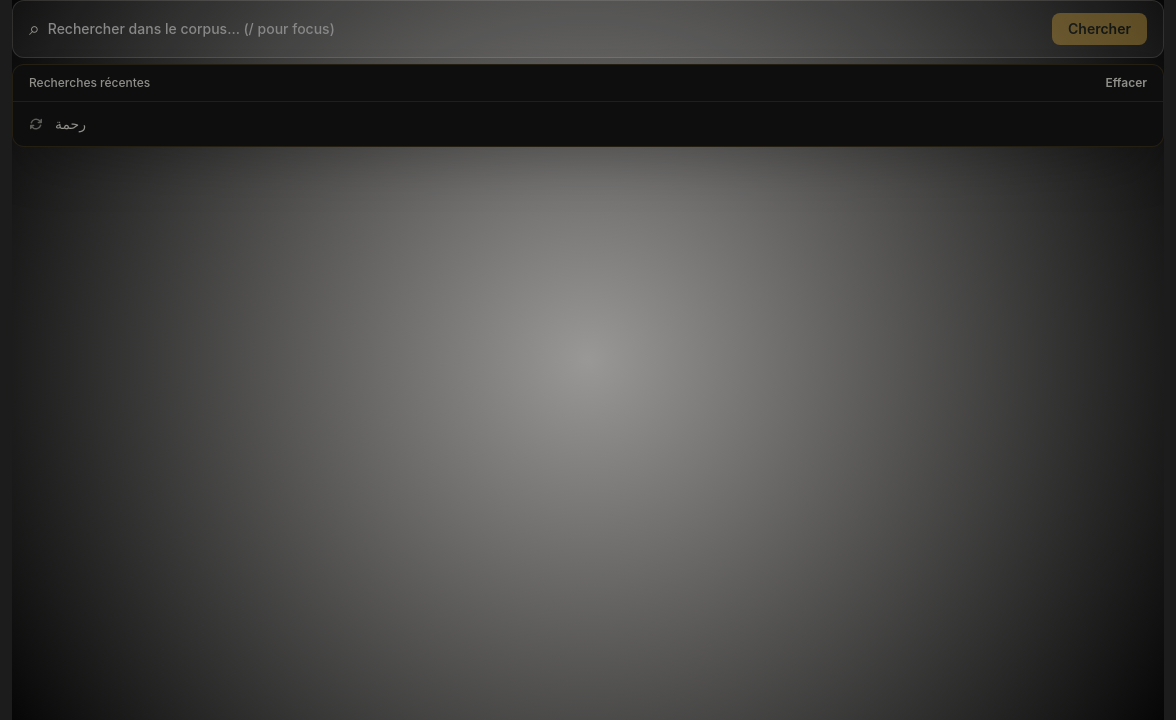
Test: SearchBar › Escape closes history dropdown and blurs input
Focus the field with placeholder "Rechercher dans le corpus… (/ pour focus)" at (546, 29), box top-left (48, 19), bottom-right (1044, 39)
Expected: the text "رحمة" is shown, top-left (55, 114), bottom-right (86, 134)
Press Escape
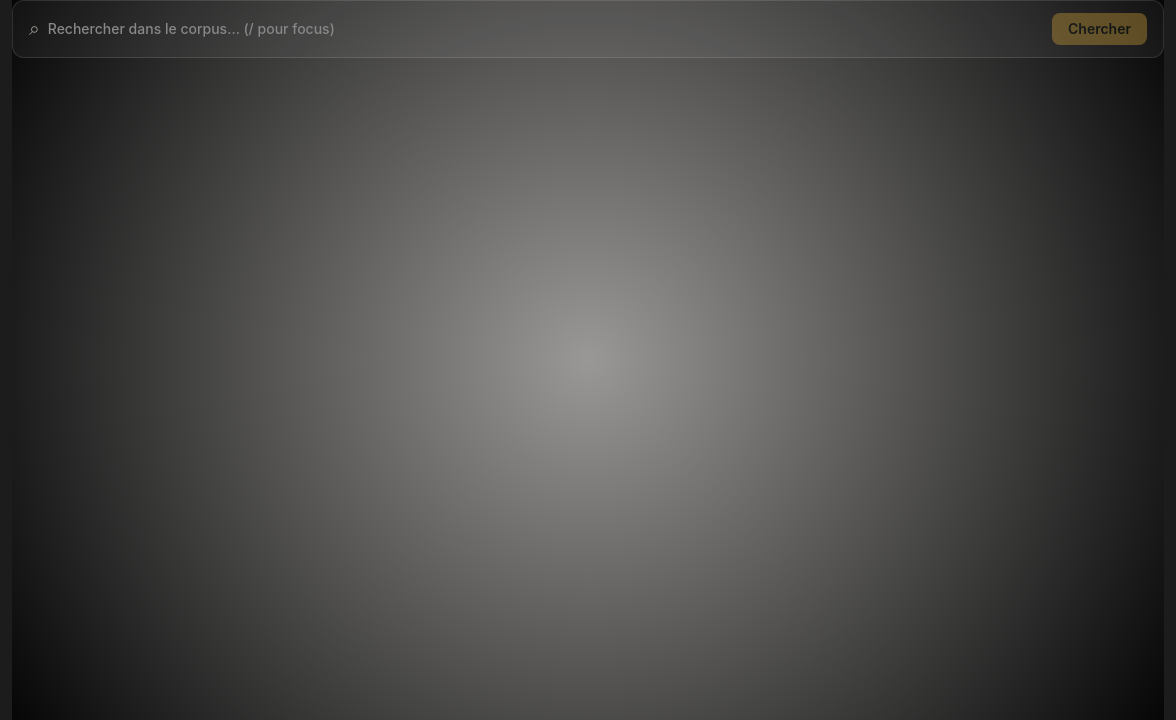
Expected: the text "Recherches récentes" is gone
